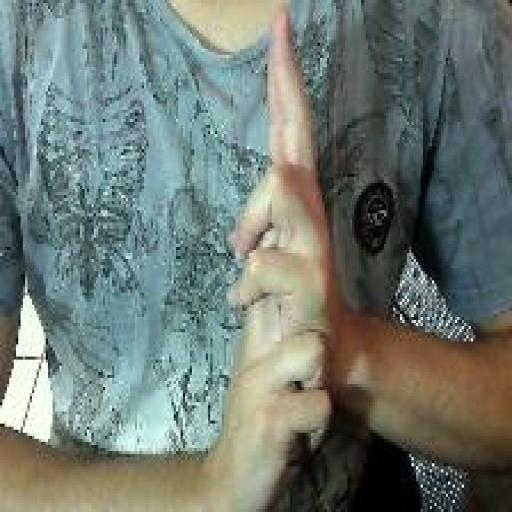Hitsuji -ram-: (223, 3, 337, 509)
